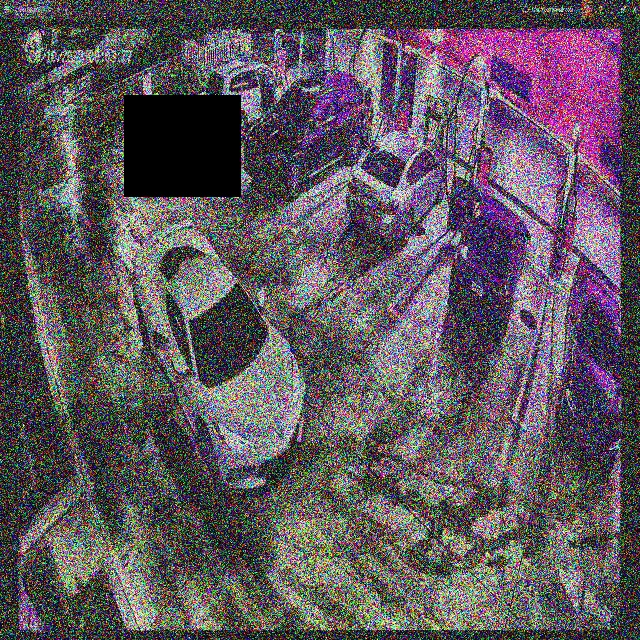Car: (133, 217, 306, 492), (244, 71, 370, 195), (449, 180, 530, 340), (343, 128, 447, 240)
